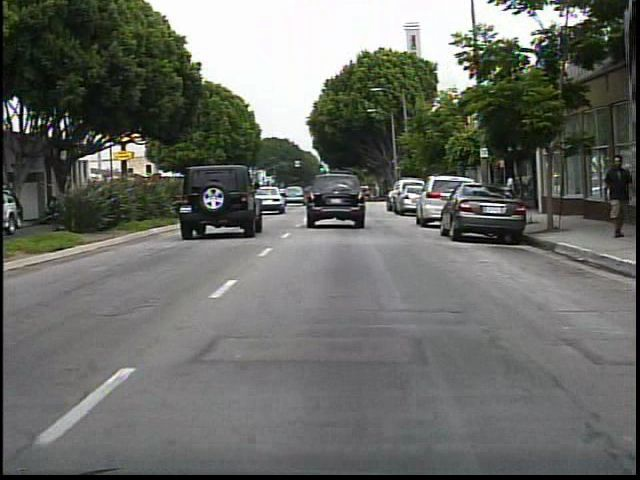person: (598, 151, 637, 242), (501, 164, 523, 218)
